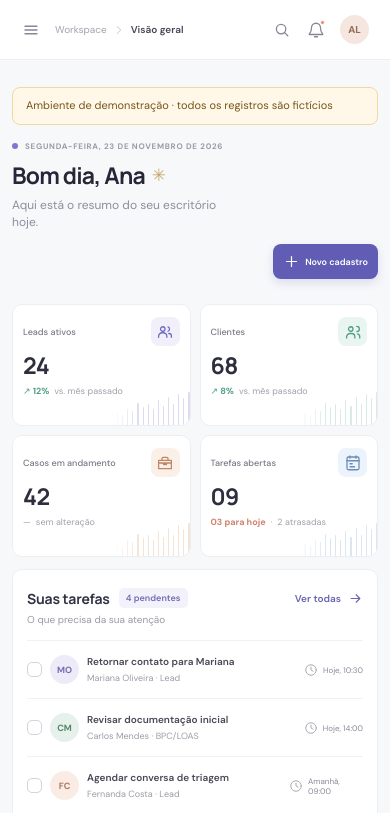
Rotas › o botão 'Novo cadastro' leva ao formulário de novo lead
Click the link "Novo cadastro". click: x=326, y=262
box: [273,244,378,280]
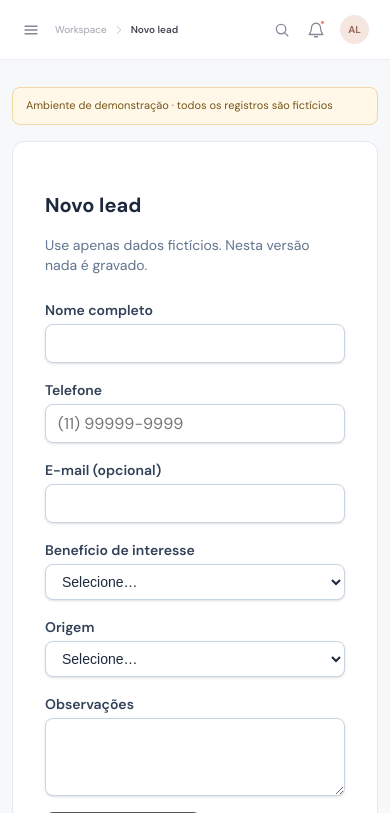
Now the heading "Novo lead" is shown, box [45,192,141,218]
